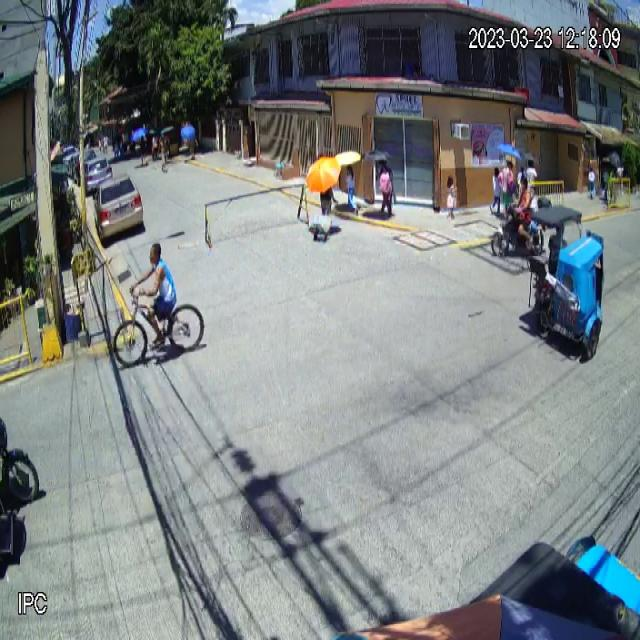Tricycle: (528, 203, 604, 360)
